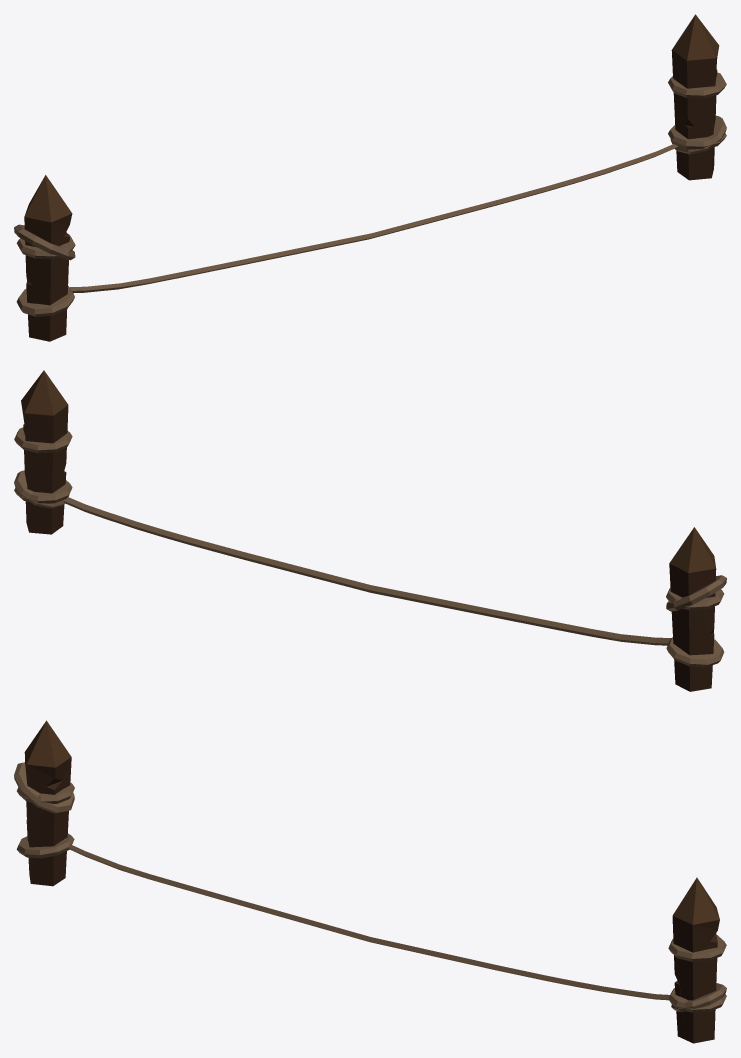
File: Cave_Lair_Wooden_Timber_Suspension_Rope_01.fbx
3 views of the same model, one above another, from view 1: azimuth 30°, elevation 25°; view 2: azimuth 150°, elevation 25°; view 3: azimuth 330°, elevation 25° (orthographic).
Parts seen in each view (by area): view 1: Cave_Lair_Wooden_Timber_Suspension_Rope_01; view 2: Cave_Lair_Wooden_Timber_Suspension_Rope_01; view 3: Cave_Lair_Wooden_Timber_Suspension_Rope_01.
Part boxes in pixels (x1,y1,x2,y2): Cave_Lair_Wooden_Timber_Suspension_Rope_01: (14, 14, 726, 341); Cave_Lair_Wooden_Timber_Suspension_Rope_01: (14, 370, 726, 691); Cave_Lair_Wooden_Timber_Suspension_Rope_01: (14, 720, 726, 1043).
Bounding box in the file's own units: 14.01 × 3 × 1.07.
